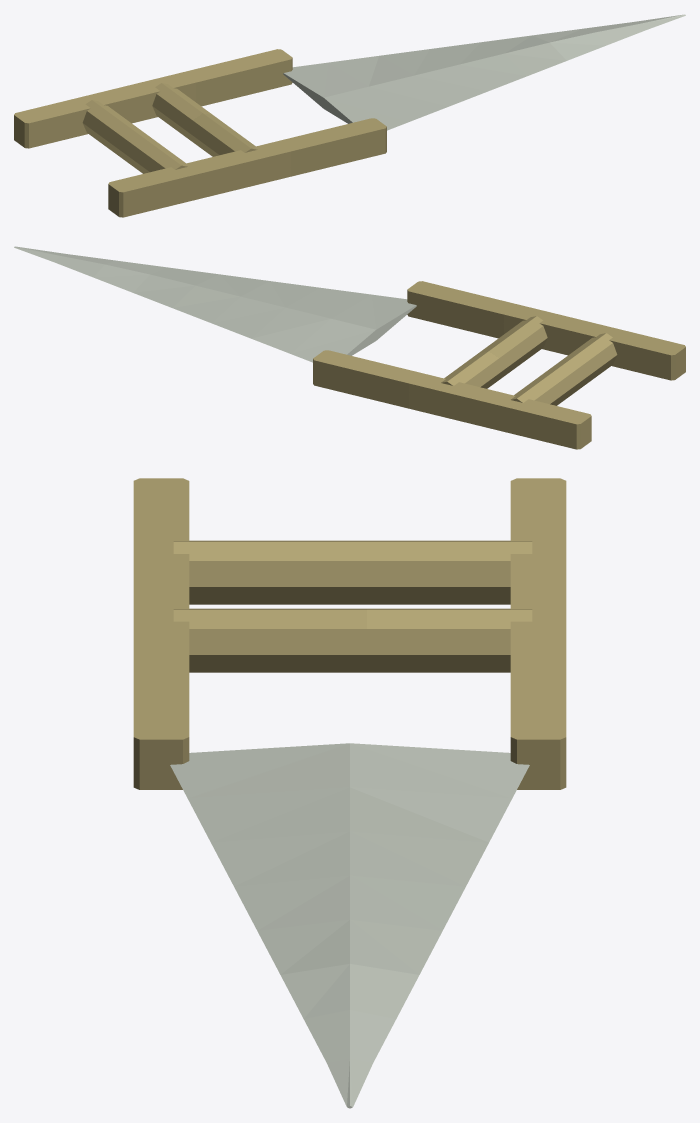
The model's file is weapon-katar.glb.
3 renders of one model, top to bottom at view 1: azimuth 30°, elevation 25°; view 2: azimuth 150°, elevation 25°; view 3: azimuth 270°, elevation 25°, orthographic. The views are drawn at different scales.
Visible parts, largest first — view 1: weapon-katar/faceted-distinct-blade, weapon-katar/parallel-wrist-rail--1, weapon-katar/parallel-wrist-rail-1, weapon-katar/transverse-double-grip--0.087, weapon-katar/transverse-double-grip--0.139; view 2: weapon-katar/faceted-distinct-blade, weapon-katar/parallel-wrist-rail-1, weapon-katar/parallel-wrist-rail--1, weapon-katar/transverse-double-grip--0.139, weapon-katar/transverse-double-grip--0.087; view 3: weapon-katar/faceted-distinct-blade, weapon-katar/transverse-double-grip--0.087, weapon-katar/transverse-double-grip--0.139, weapon-katar/parallel-wrist-rail--1, weapon-katar/parallel-wrist-rail-1.
Part boxes in pixels (x1,y1,x2,y2): weapon-katar/faceted-distinct-blade: (283,14,685,130); weapon-katar/parallel-wrist-rail--1: (108,118,386,217); weapon-katar/parallel-wrist-rail-1: (14,49,292,148); weapon-katar/transverse-double-grip--0.087: (152,83,257,156); weapon-katar/transverse-double-grip--0.139: (82,100,187,173); weapon-katar/faceted-distinct-blade: (14,246,416,362); weapon-katar/parallel-wrist-rail-1: (313,350,591,449); weapon-katar/parallel-wrist-rail--1: (407,281,685,380); weapon-katar/transverse-double-grip--0.139: (510,333,617,405); weapon-katar/transverse-double-grip--0.087: (441,316,547,388); weapon-katar/faceted-distinct-blade: (170,743,529,1108); weapon-katar/transverse-double-grip--0.087: (173,608,532,672); weapon-katar/transverse-double-grip--0.139: (173,540,532,604); weapon-katar/parallel-wrist-rail--1: (133,478,189,789); weapon-katar/parallel-wrist-rail-1: (510,478,566,789).
Size of the model in its own units: 0.462 by 0.022 by 0.14.
2 materials, 2 textured.
